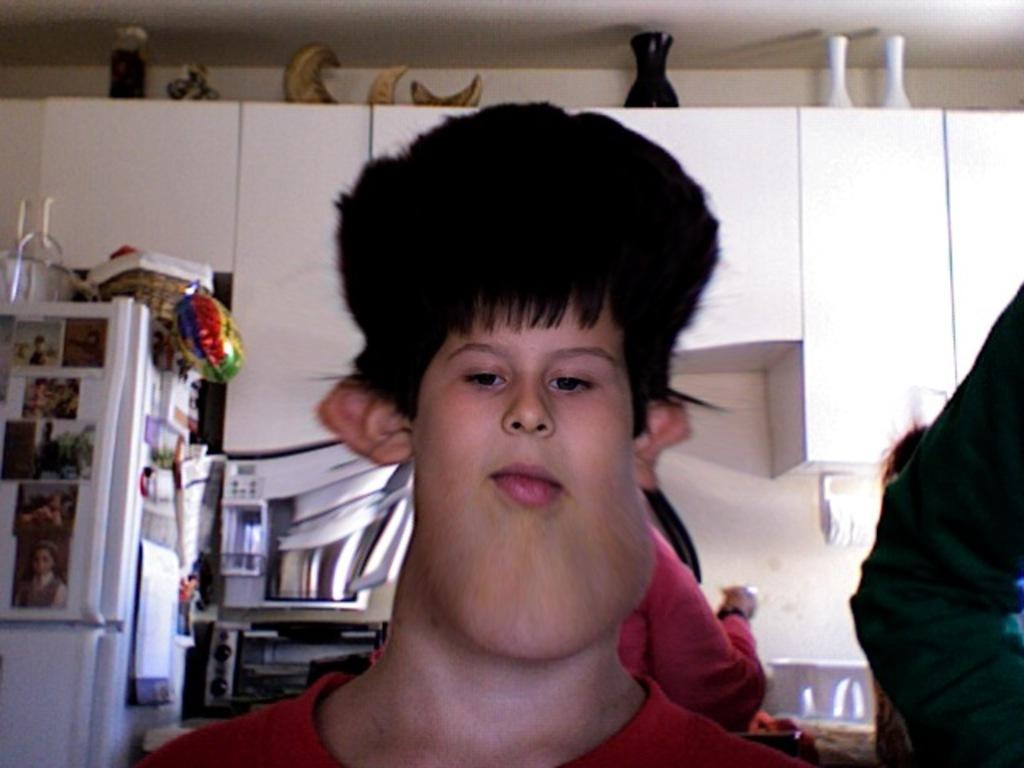cabinet_door: (802, 118, 954, 440), (248, 119, 354, 446), (50, 108, 232, 273)
handle: (76, 309, 126, 610), (72, 639, 108, 768)
